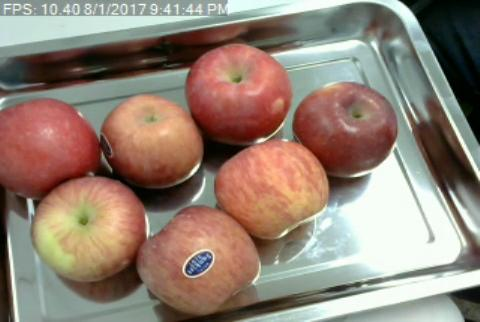apple: (140, 206, 262, 316), (29, 176, 146, 282), (216, 141, 328, 239), (187, 41, 289, 145), (100, 93, 204, 192), (298, 80, 400, 173), (0, 98, 100, 191)
